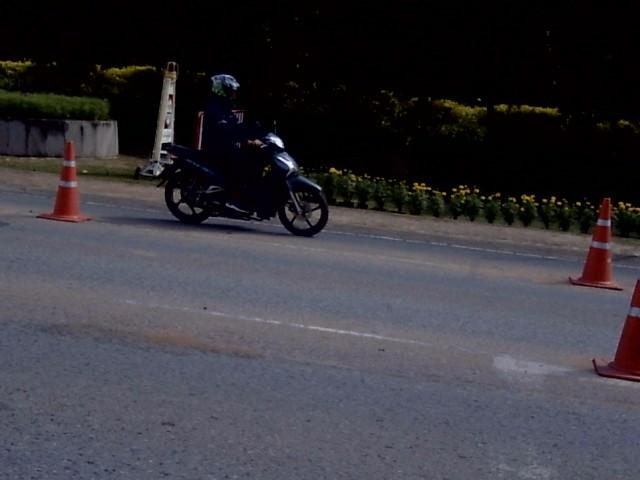helmet: (209, 73, 239, 102)
motor: (157, 132, 328, 236)
person: (202, 73, 262, 214)
